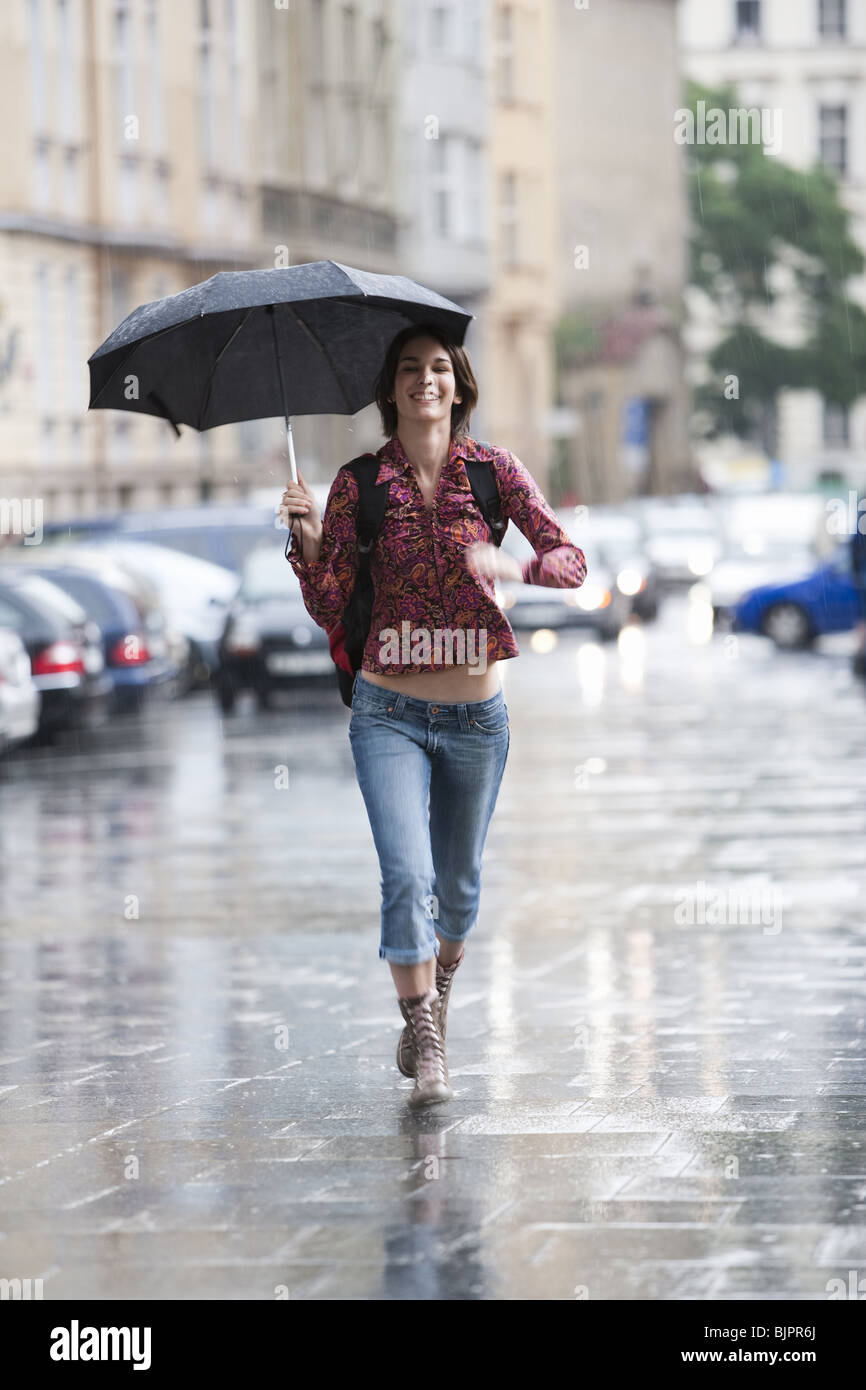Person: (257, 311, 578, 1114)
